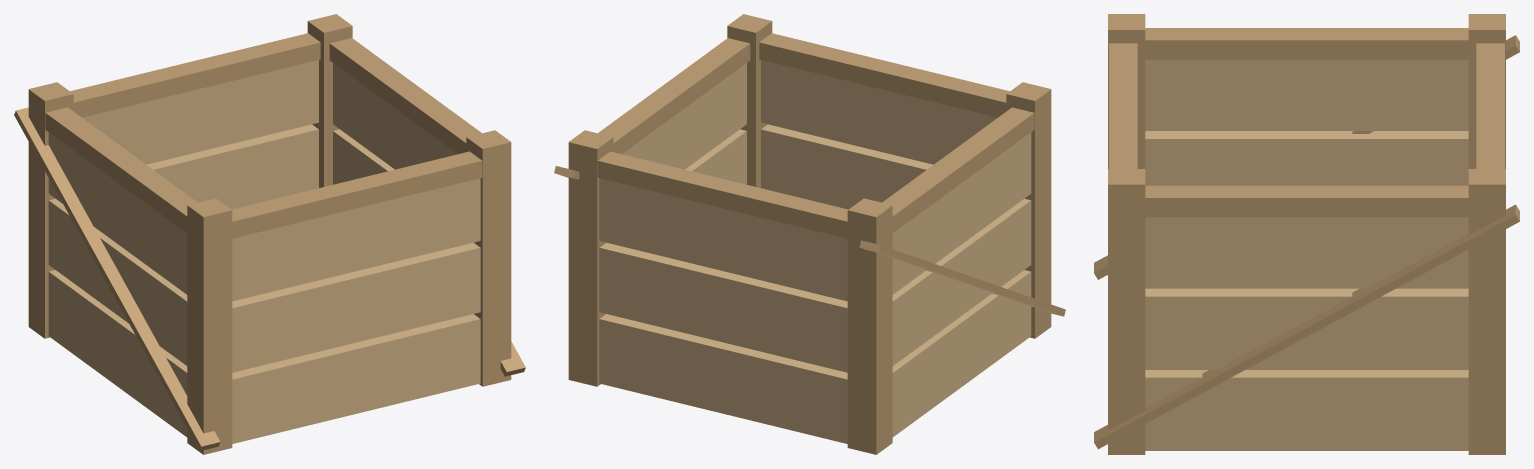
The model's file is crate_wood.glb.
3 renders of one model, left to right at view 1: azimuth 30°, elevation 25°; view 2: azimuth 150°, elevation 25°; view 3: azimuth 270°, elevation 25°, orthographic. The views are drawn at different scales.
Parts seen in each view (by area): view 1: crate_wood; view 2: crate_wood; view 3: crate_wood.
Part boxes in pixels (x1,y1,x2,y2): crate_wood: (14, 14, 525, 454); crate_wood: (554, 14, 1065, 454); crate_wood: (1094, 14, 1519, 454).
Size of the model in its own units: 1 by 0.7 by 1.
